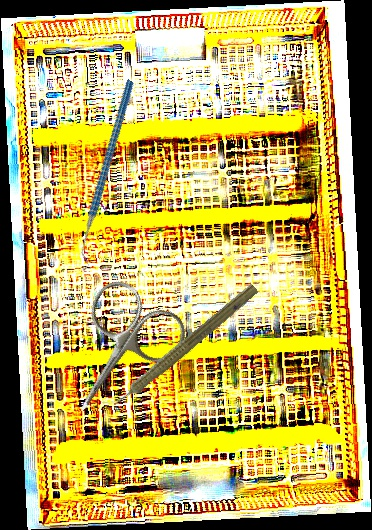Chopper: (27, 79, 191, 267)
Handpiece: (99, 277, 262, 418)
Iris Scissors: (39, 272, 194, 438)
